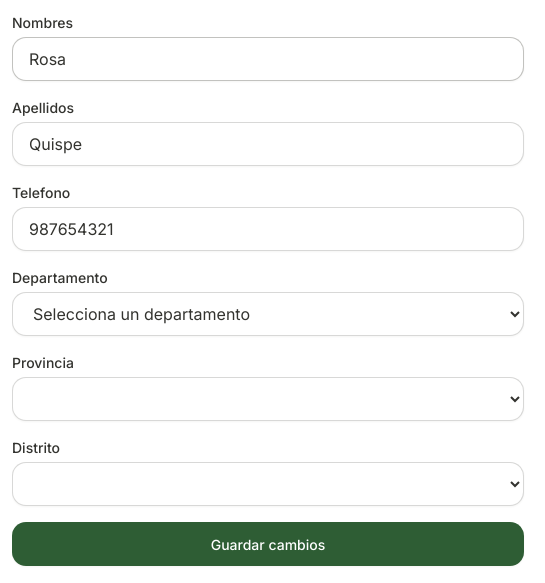
Test case: ProfileForm › al cambiar de departamento limpia provincia y distrito
Select "Ancash" in the dropdown labelled "Departamento". click: x=268, y=314
box: [12,292,524,336]
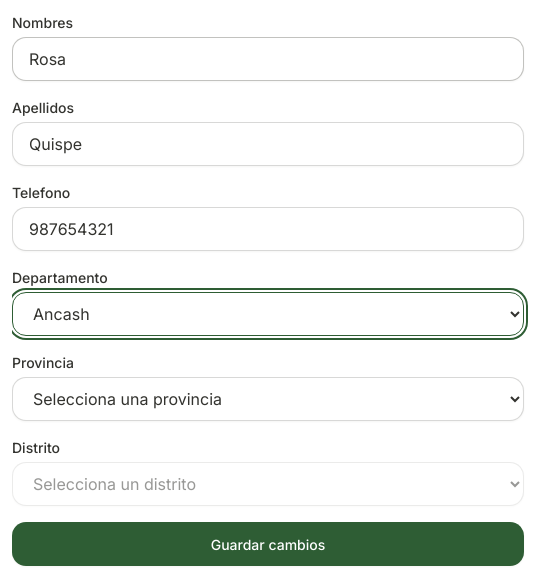
Now the dropdown labelled "Provincia" shows "Selecciona una provincia", box [12,377,524,421]
Now the dropdown labelled "Distrito" shows "Selecciona un distrito", box [12,462,524,506]
